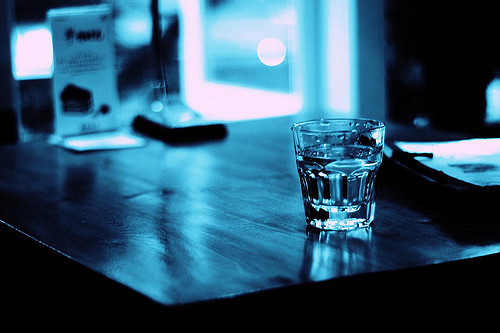glass of water: (294, 120, 382, 232)
